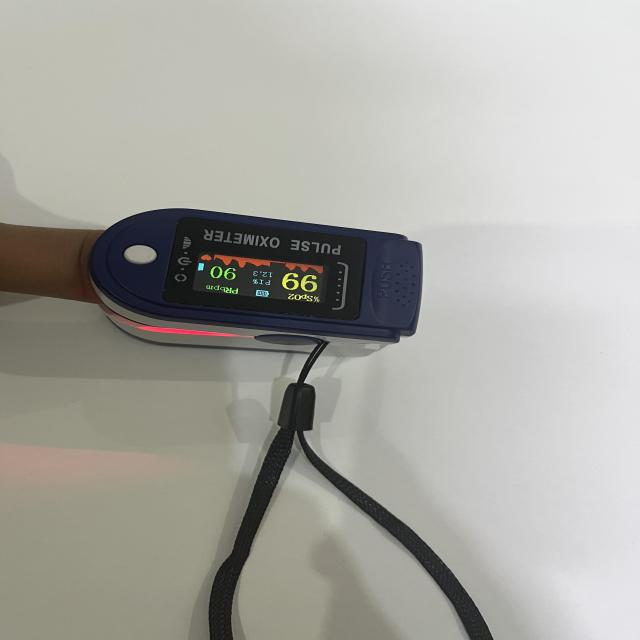spo2: (83, 208, 423, 351)
